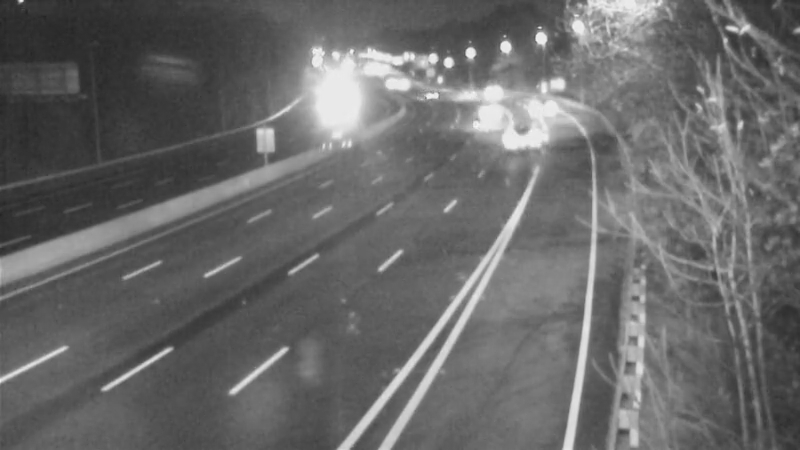vehicle: (470, 64, 520, 114), (405, 68, 455, 118), (526, 87, 576, 137), (461, 86, 511, 136), (459, 93, 509, 143), (493, 108, 543, 158)
